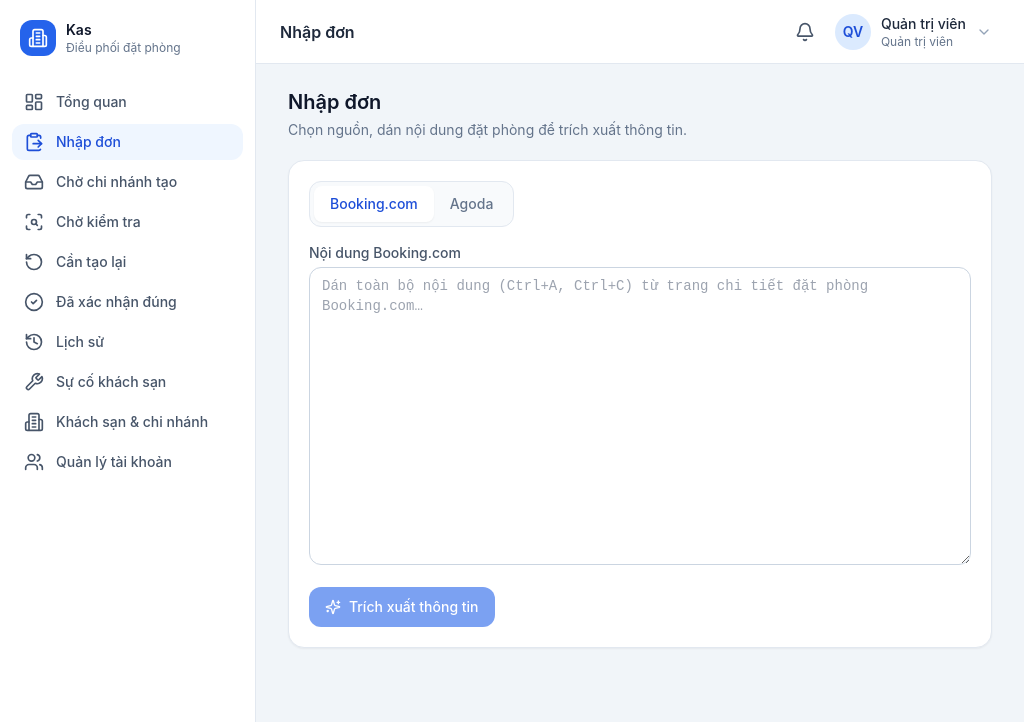
Test: DispatchPage — data-quality / confidence display › shows a HIGH completeness score and branch confidence, no review banner
Step 1. Type "Booking.com raw text" into the text box → (640, 416), box [309, 267, 971, 565]
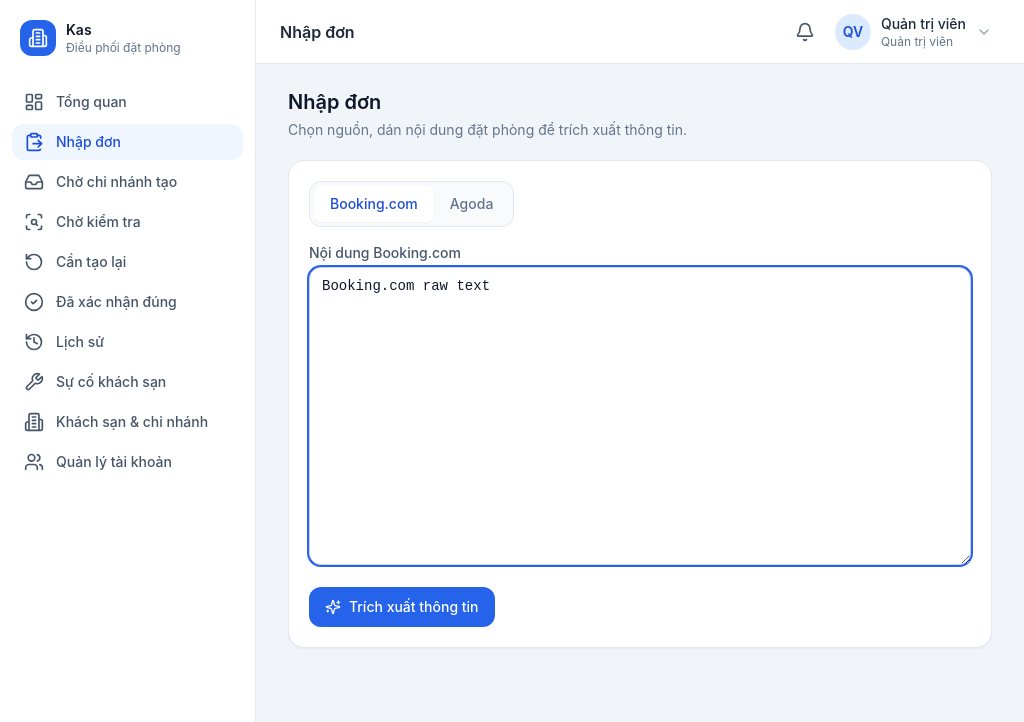
Step 2. Click the button "Trích xuất thông tin" → (402, 607), box [309, 587, 494, 627]
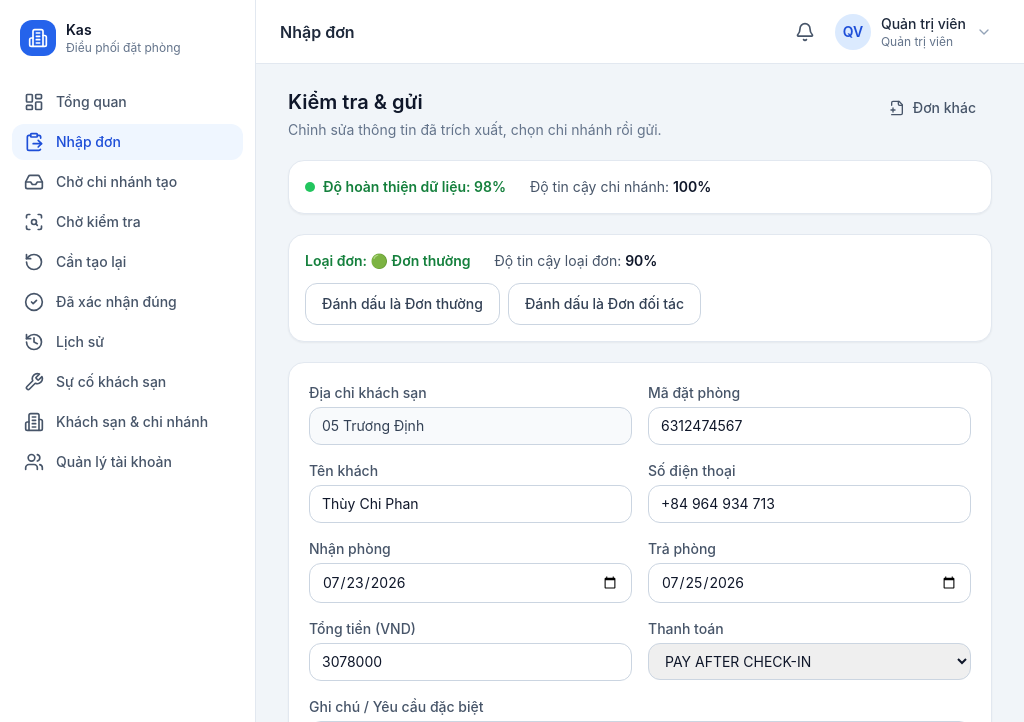
Expected: the text "Độ hoàn thiện dữ liệu: 98%" is shown, [323, 177, 506, 197]
Expected: the text "98%" is shown, [474, 178, 506, 195]
Expected: the text "Độ tin cậy chi nhánh: 100%" is shown, [530, 177, 711, 197]
